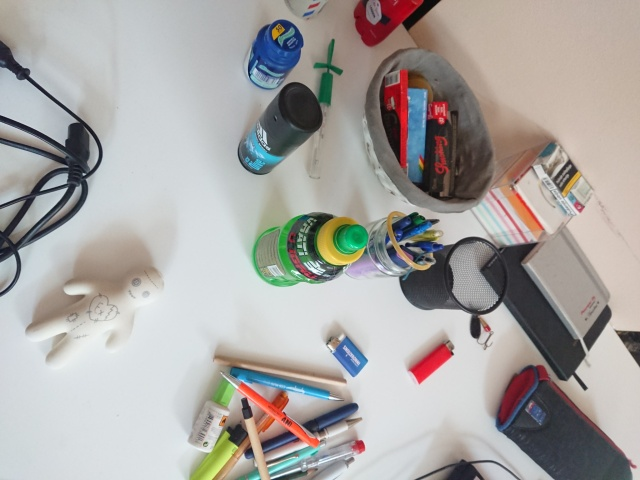Vindi Iso Sport Lemon-Grapefruit 500mL: (249, 209, 371, 290)
